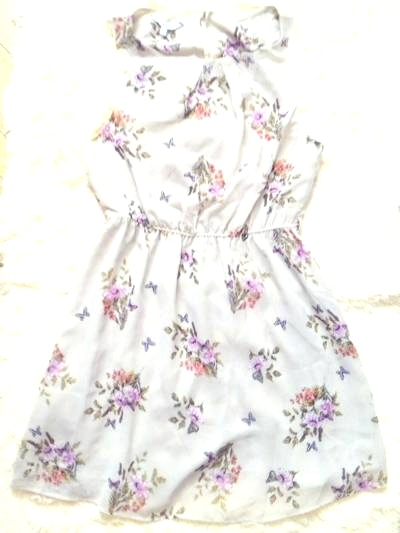Dress: (10, 1, 394, 524)
